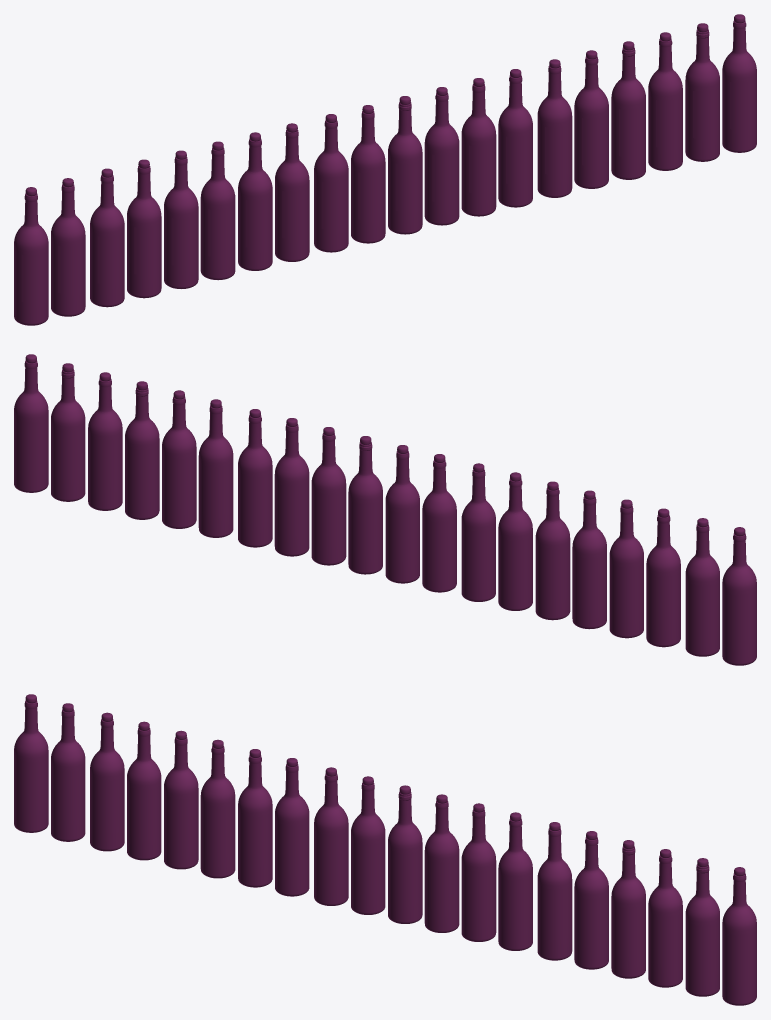
Rendered from Vinos2.fbx.
The picture shows the model from 3 angles, top to bottom: view 1: azimuth 30°, elevation 25°; view 2: azimuth 150°, elevation 25°; view 3: azimuth 330°, elevation 25°; orthographic projection.
Parts seen in each view (by area): view 1: Botella_de_Vino6, Botella_de_Vino4, Botella_de_Vino15, Botella_de_Vino17, Botella_de_Vino10, Botella_de_Vino8, Botella_de_Vino2, Botella_de_Vino1, Botella_de_Vino18, Botella_de_Vino7, Botella_de_Vino9, Botella_de_Vino5 (+8 smaller); view 2: Botella_de_Vino4, Botella_de_Vino6, Botella_de_Vino15, Botella_de_Vino17, Botella_de_Vino2, Botella_de_Vino10, Botella_de_Vino8, Botella_de_Vino1, Botella_de_Vino18, Botella_de_Vino7, Botella_de_Vino16, Botella_de_Vino5 (+8 smaller); view 3: Botella_de_Vino17, Botella_de_Vino4, Botella_de_Vino15, Botella_de_Vino6, Botella_de_Vino2, Botella_de_Vino18, Botella_de_Vino8, Botella_de_Vino10, Botella_de_Vino5, Botella_de_Vino1, Botella_de_Vino13, Botella_de_Vino11 (+8 smaller).
Part boxes in pixels (x1,y1,x2,y2): Botella_de_Vino6: [424, 87, 459, 225]; Botella_de_Vino4: [200, 141, 235, 280]; Botella_de_Vino15: [537, 59, 572, 197]; Botella_de_Vino17: [461, 78, 496, 216]; Botella_de_Vino10: [275, 123, 309, 261]; Botella_de_Vino8: [351, 105, 385, 243]; Botella_de_Vino2: [127, 159, 161, 298]; Botella_de_Vino1: [51, 178, 85, 316]; Botella_de_Vino18: [685, 23, 719, 161]; Botella_de_Vino7: [388, 96, 422, 234]; Botella_de_Vino9: [314, 114, 348, 252]; Botella_de_Vino5: [164, 150, 198, 288]; Botella_de_Vino4: [535, 481, 570, 620]; Botella_de_Vino6: [311, 427, 346, 565]; Botella_de_Vino15: [198, 399, 233, 537]; Botella_de_Vino17: [274, 418, 309, 556]; Botella_de_Vino2: [609, 499, 643, 638]; Botella_de_Vino10: [461, 463, 495, 601]; Botella_de_Vino8: [385, 445, 419, 583]; Botella_de_Vino1: [685, 518, 719, 656]; Botella_de_Vino18: [51, 363, 85, 501]; Botella_de_Vino7: [348, 436, 382, 574]; Botella_de_Vino16: [238, 409, 272, 547]; Botella_de_Vino5: [572, 490, 606, 629]; Botella_de_Vino17: [461, 803, 496, 941]; Botella_de_Vino4: [200, 739, 235, 878]; Botella_de_Vino15: [537, 822, 572, 960]; Botella_de_Vino6: [424, 794, 459, 932]; Botella_de_Vino2: [127, 721, 161, 860]; Botella_de_Vino18: [685, 858, 719, 996]; Botella_de_Vino8: [351, 776, 385, 914]; Botella_de_Vino10: [275, 758, 309, 896]; Botella_de_Vino5: [164, 730, 198, 869]; Botella_de_Vino1: [51, 703, 85, 841]; Botella_de_Vino13: [611, 840, 645, 978]; Botella_de_Vino11: [238, 749, 272, 887].
Bounding box in the file's own units: 202 × 34.2 × 8.2.
